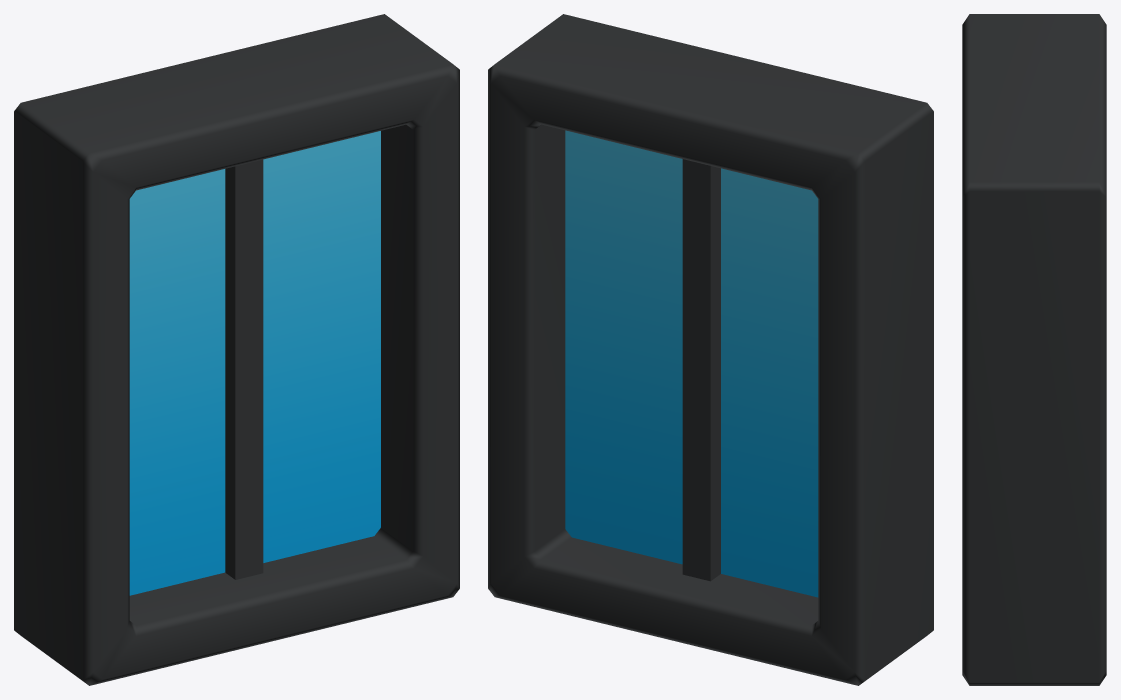
The model's file is Window_Black_10.glb.
The picture shows the model from 3 angles, left to right: view 1: azimuth 30°, elevation 25°; view 2: azimuth 150°, elevation 25°; view 3: azimuth 270°, elevation 25°; orthographic projection. The views are drawn at different scales.
Visible parts, largest first — view 1: Window_Black_10; view 2: Window_Black_10; view 3: Window_Black_10.
Boxes of the visible parts, x1,y1,x2,y2 form: Window_Black_10: (14,14,459,685); Window_Black_10: (488,14,933,685); Window_Black_10: (962,14,1106,685).
Bounding box in the file's own units: 1.14 × 1.54 × 0.4.
2 materials, 2 textured.
